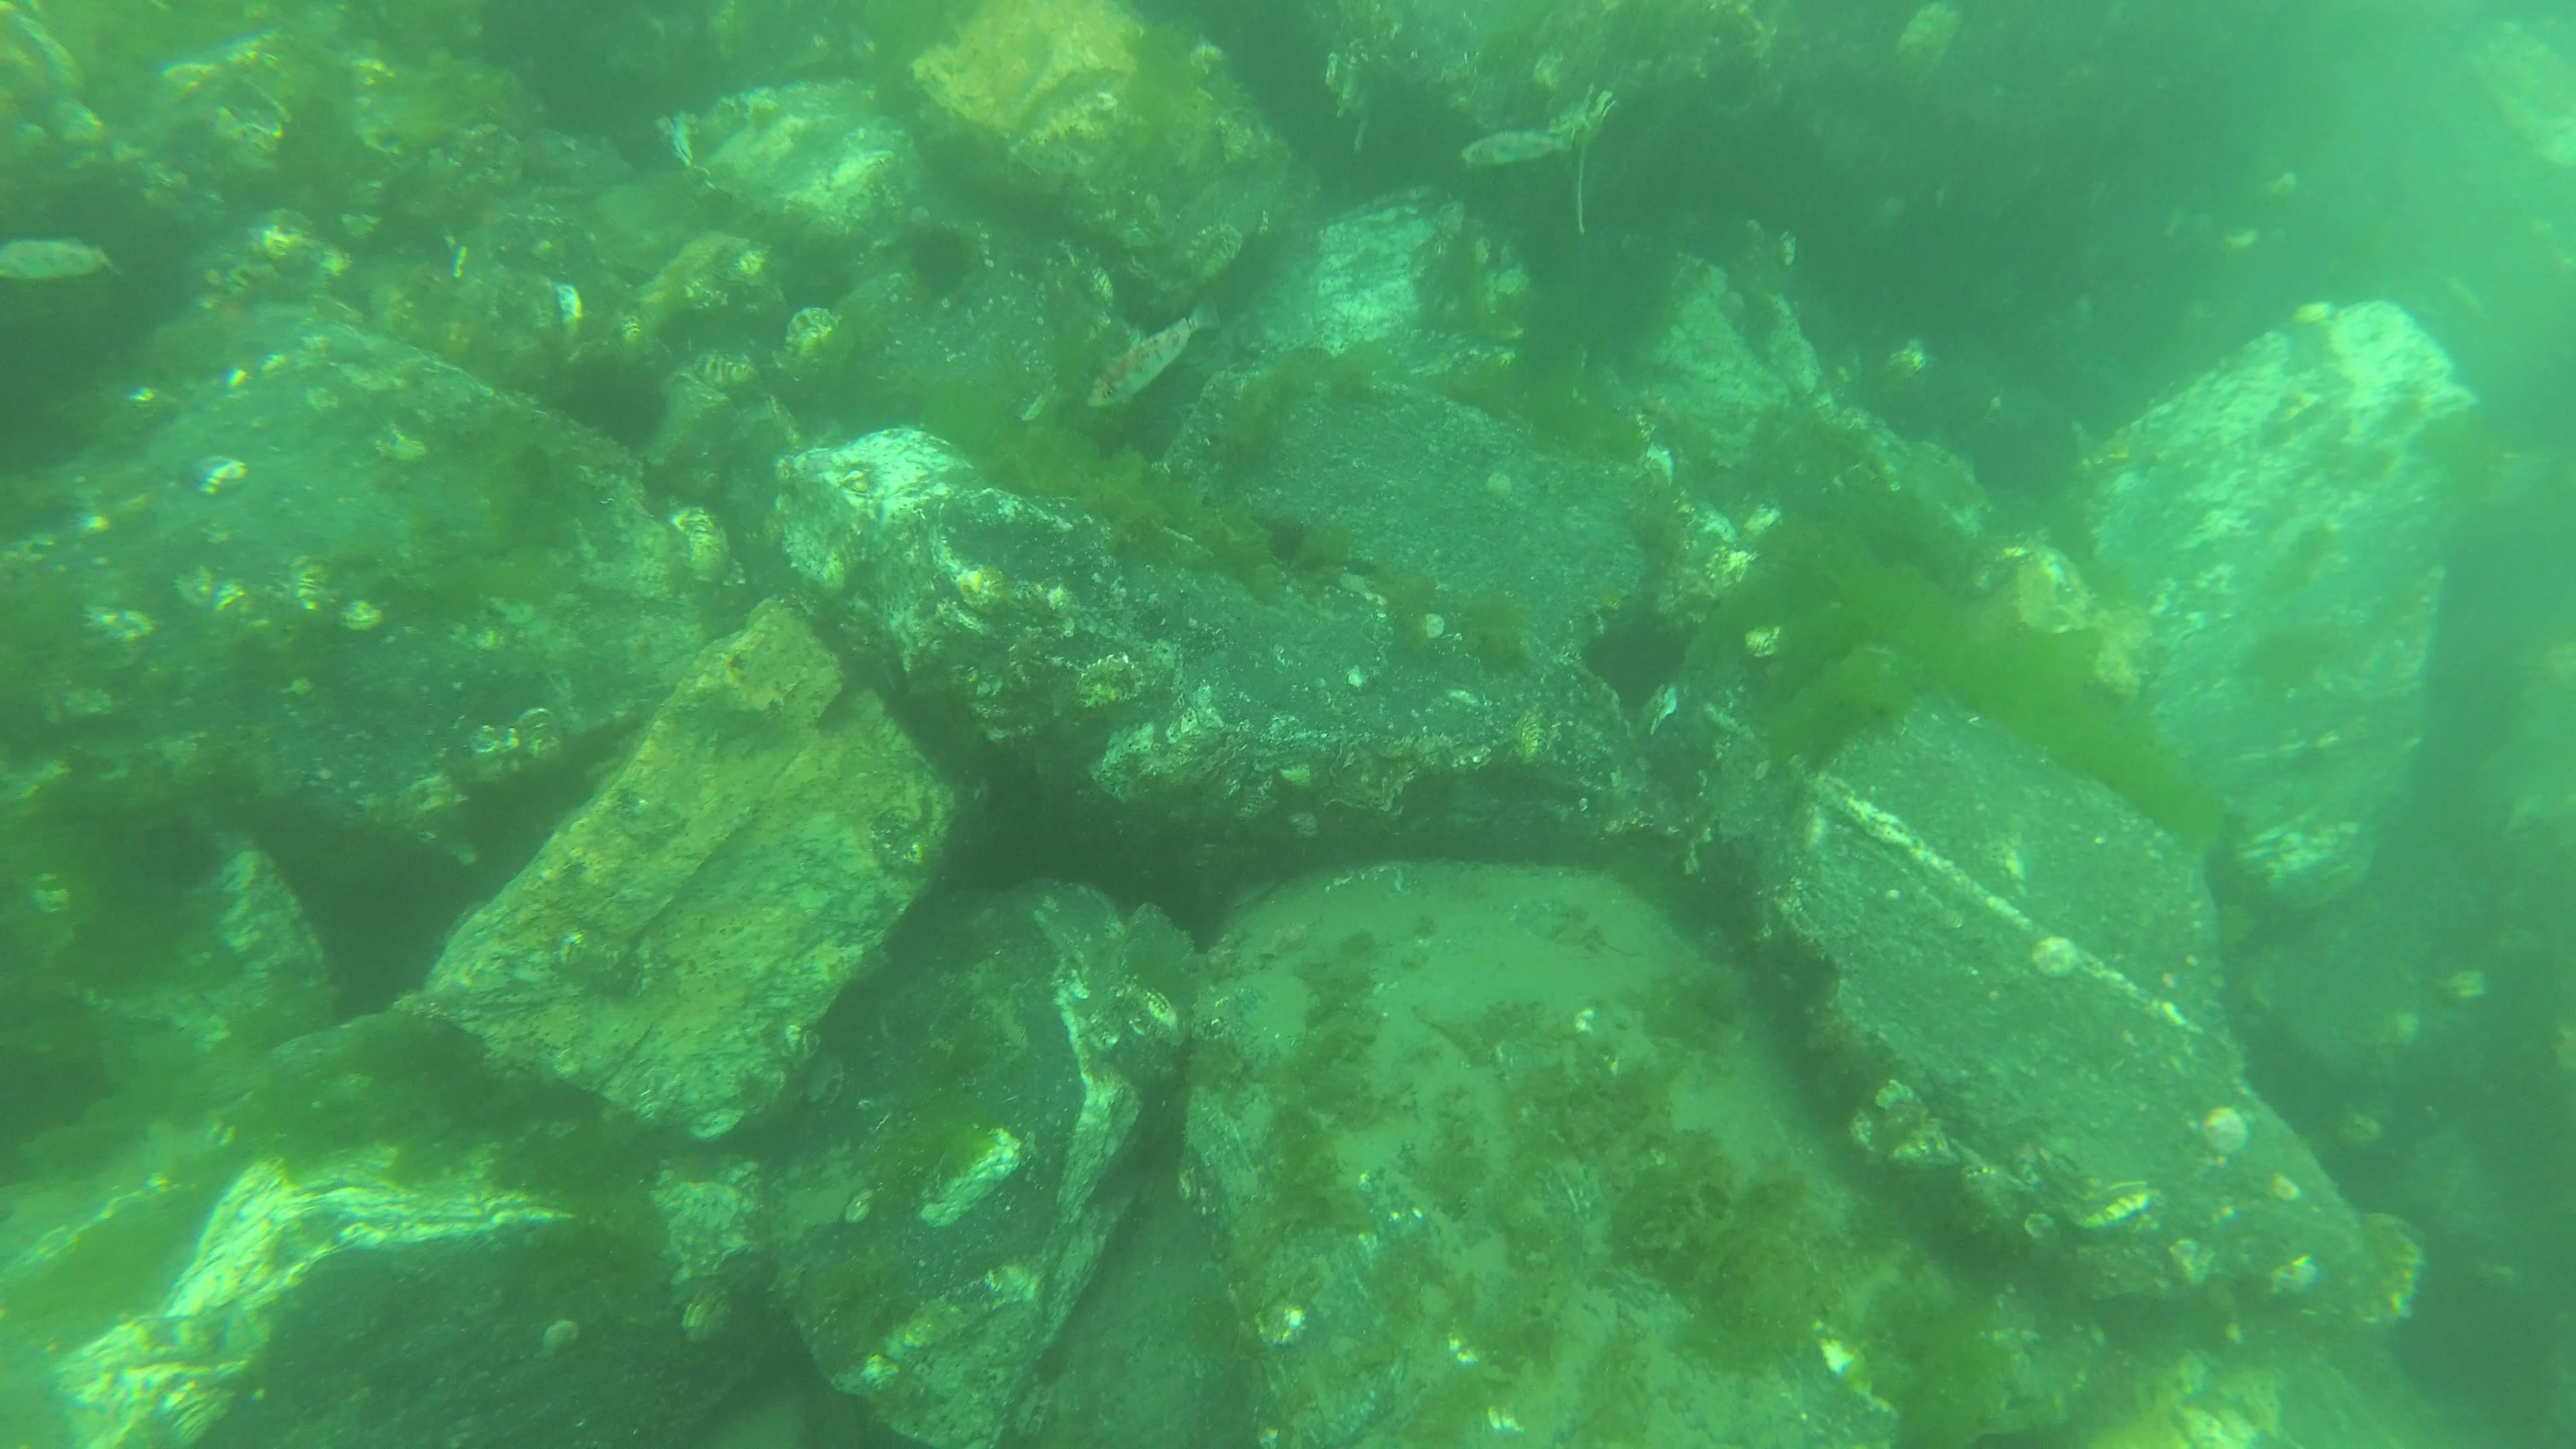echinus: (143, 832, 223, 893), (911, 225, 980, 290)
